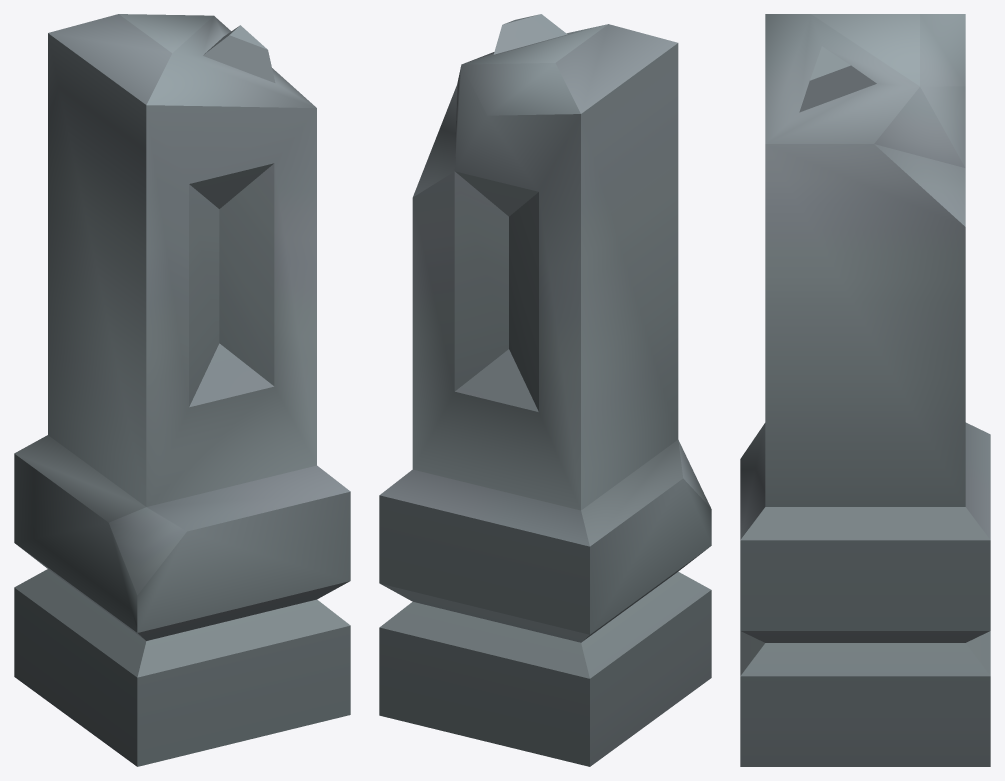
The model's file is kay-pilar-cerca-quebrado.gltf.
3 views of the same model, side by side, from view 1: azimuth 30°, elevation 25°; view 2: azimuth 150°, elevation 25°; view 3: azimuth 270°, elevation 25° (orthographic). The views are drawn at different scales.
Visible parts, largest first — view 1: fence_pillar_broken; view 2: fence_pillar_broken; view 3: fence_pillar_broken.
Part boxes in pixels (x1,y1,x2,y2): fence_pillar_broken: (14, 14, 350, 766); fence_pillar_broken: (379, 14, 711, 766); fence_pillar_broken: (740, 14, 990, 766).
Bounding box in the file's own units: 0.25 × 0.7515 × 0.25.
1 material, 1 textured.
